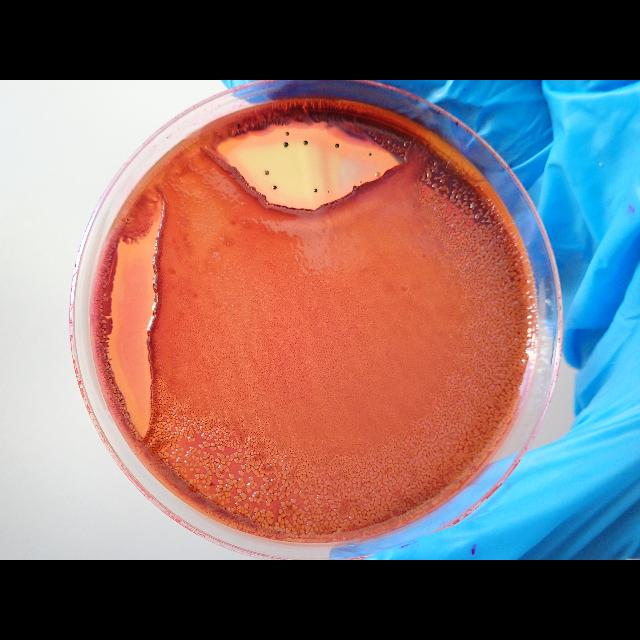colony: (282, 141, 290, 149), (302, 139, 310, 147), (284, 130, 290, 138), (334, 142, 340, 150), (264, 170, 270, 177), (271, 183, 277, 190), (312, 188, 318, 195), (367, 152, 373, 158), (326, 189, 330, 193), (359, 180, 363, 184)
